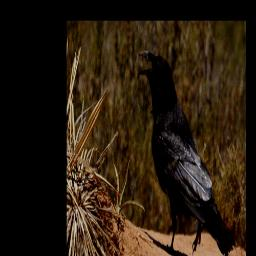Crow: (138, 51, 237, 256)
